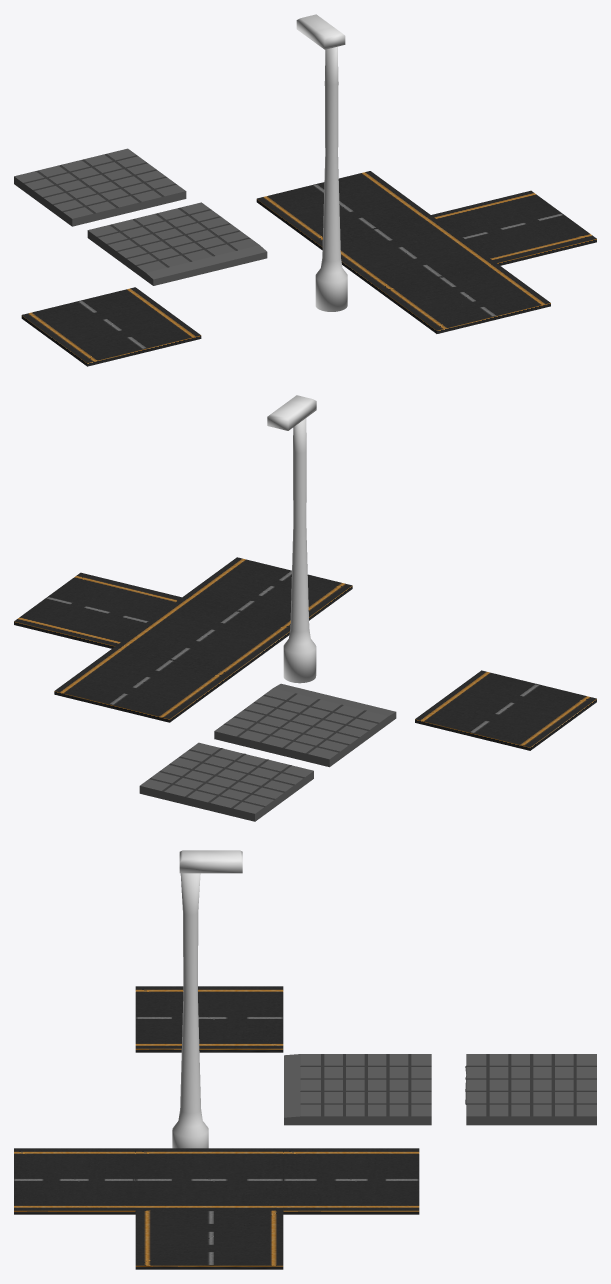
Rendered from streetAssets 1.fbx.
3 renders of one model, top to bottom at view 1: azimuth 30°, elevation 25°; view 2: azimuth 150°, elevation 25°; view 3: azimuth 270°, elevation 25°, orthographic. The views are drawn at different scales.
Visible parts, largest first — view 1: Cube.003, Cube.001, Cube.002, Cube.004, Cylinder; view 2: Cube.003, Cube.001, Cube.002, Cube.004, Cylinder; view 3: Cube.003, Cube.001, Cube.004, Cube.002, Cylinder.
Part boxes in pixels (<box>): Cube.003: <box>256,171,596,333</box>; Cube.001: <box>87,202,267,285</box>; Cube.002: <box>21,287,201,366</box>; Cube.004: <box>14,148,186,226</box>; Cylinder: <box>296,14,347,311</box>; Cube.003: <box>14,557,352,722</box>; Cube.001: <box>214,683,396,767</box>; Cube.002: <box>415,670,596,750</box>; Cube.004: <box>139,742,313,821</box>; Cylinder: <box>267,395,316,683</box>; Cube.003: <box>14,1148,419,1269</box>; Cube.001: <box>284,1054,431,1125</box>; Cube.004: <box>465,1054,596,1125</box>; Cube.002: <box>135,986,283,1052</box>; Cylinder: <box>172,850,242,1148</box>.
Bounding box in the file's own units: 1994 × 1022 × 1759.
3 materials, 1 textured.
